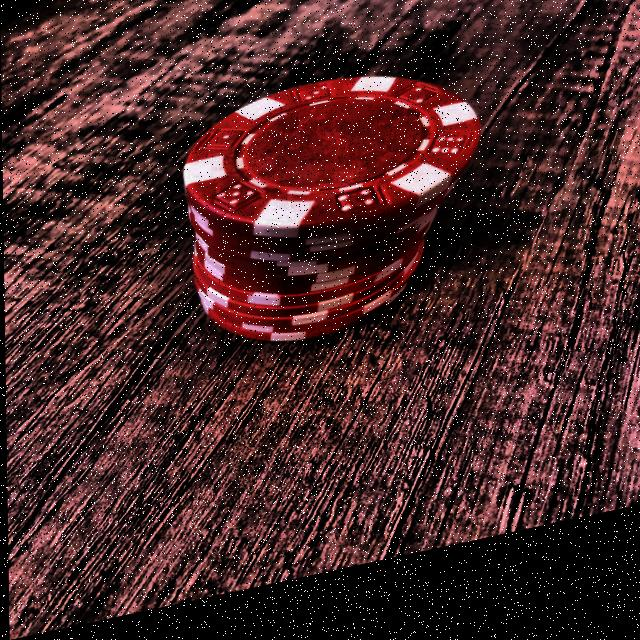Chip: (180, 66, 483, 376)
